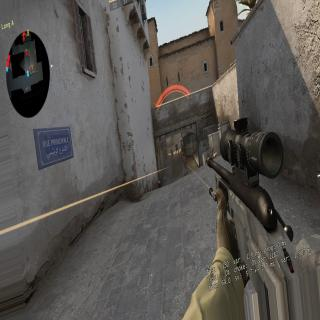T-Body: (182, 153, 189, 175), (170, 148, 174, 161), (175, 142, 179, 154)
T-Head: (183, 154, 185, 157), (171, 148, 172, 150), (176, 142, 177, 144)
